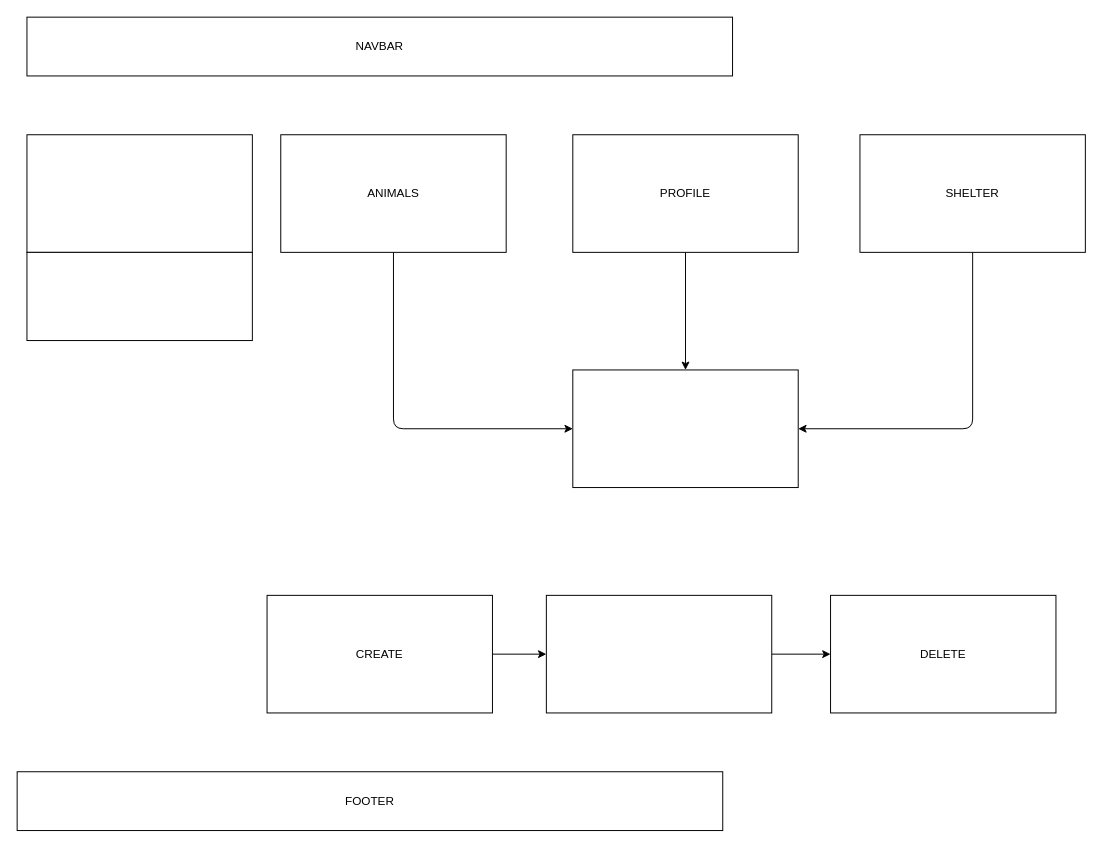
Some shapes in this 1103 by 848 pixel diagram are drawn without their labels. Each missing label, with the centre of its shape:
ABOUT SECTION: point 139,296
DETAILS: point 685,428
LANDING PAGE: point 139,193
UPDATE: point 658,653
